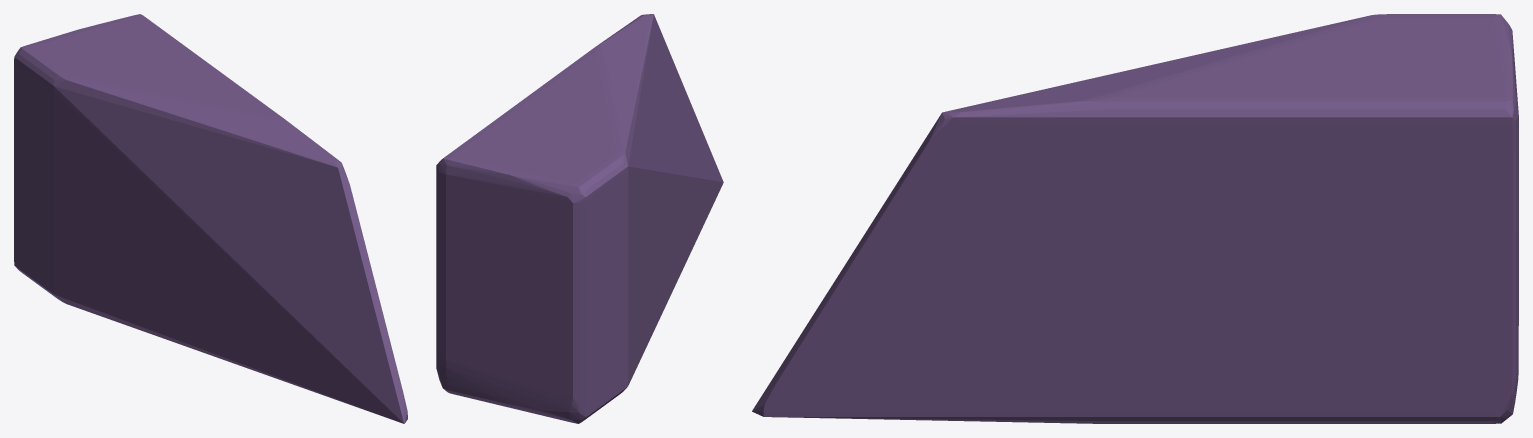
The model's file is right_elbow_link_part_1.obj.
The picture shows the model from 3 angles, left to right: view 1: azimuth 30°, elevation 25°; view 2: azimuth 150°, elevation 25°; view 3: azimuth 270°, elevation 25°; orthographic projection. The views are drawn at different scales.
Bounding box in the file's own units: 0.012 × 0.0187 × 0.0401.
